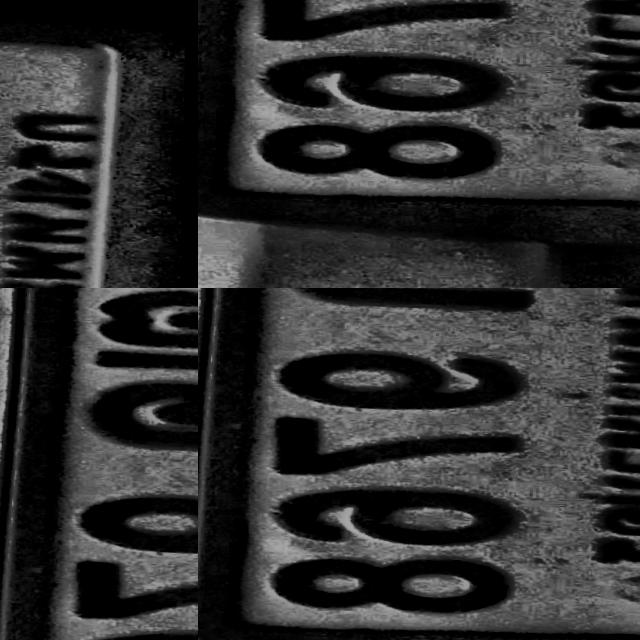license-plate: (198, 288, 640, 640), (0, 288, 148, 354)
